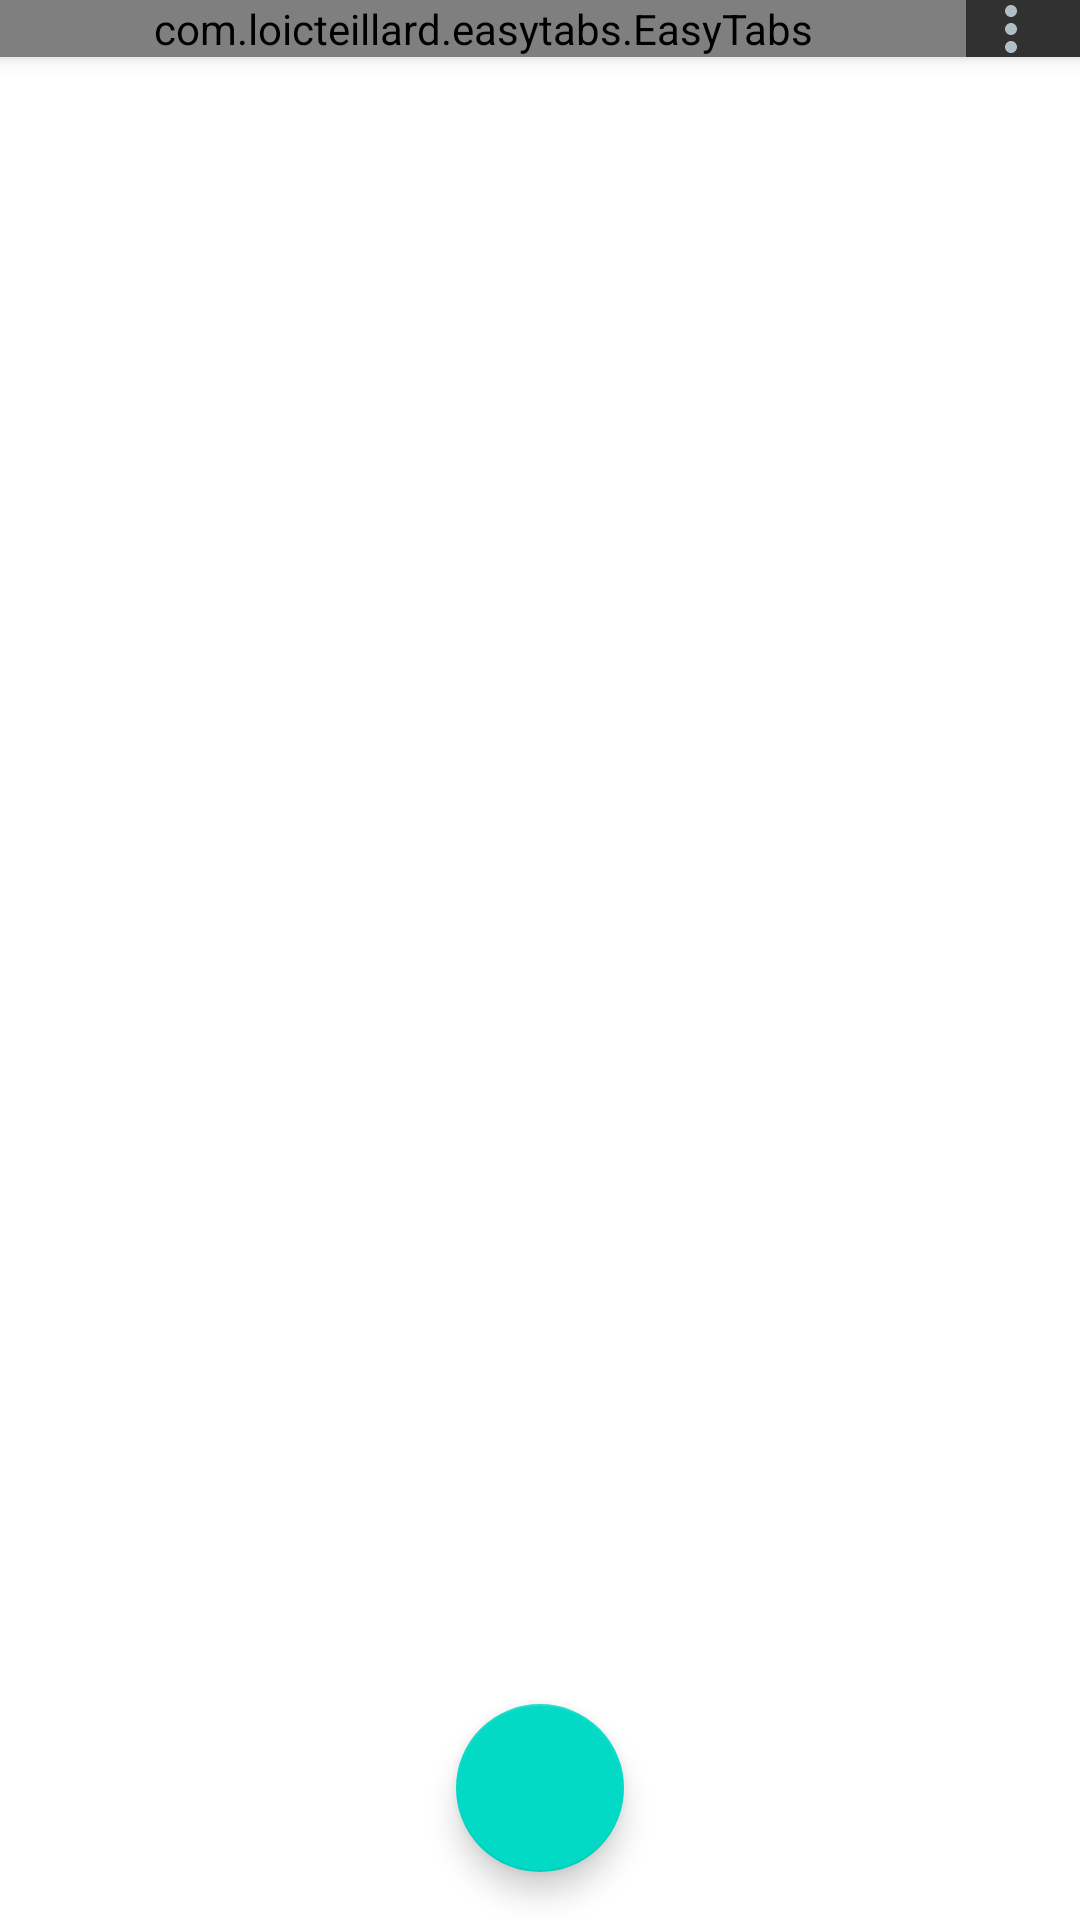

Icons on this 1080 x 1920 Android screen, each with its box as (x1, y1, x2, y2):
Popup menu: (1005, 5, 1017, 53)
